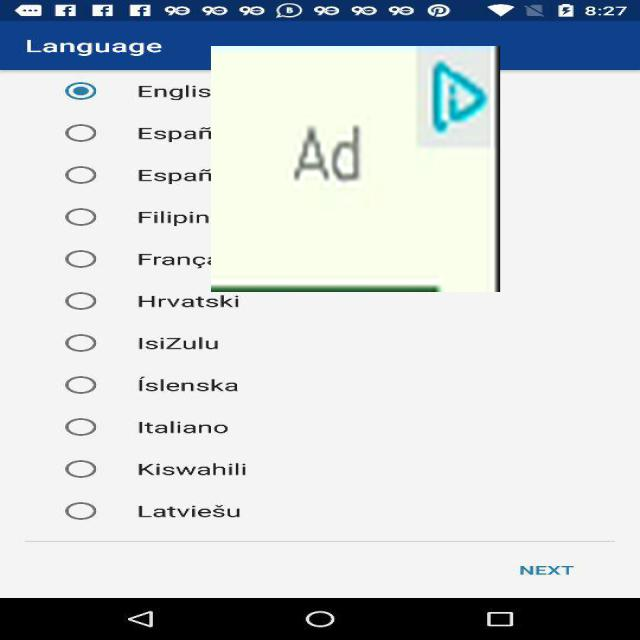sneaking: (211, 46, 500, 292)
